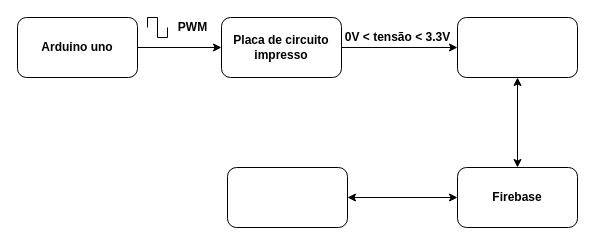
The diagram is 595 pixels wide and 245 high, and some of its shapes have lost their labels. The centre of each missing label's shape, as x and y in pixels:
"ESP01" goes at pixel 517 47.
"Interface" goes at pixel 287 197.
